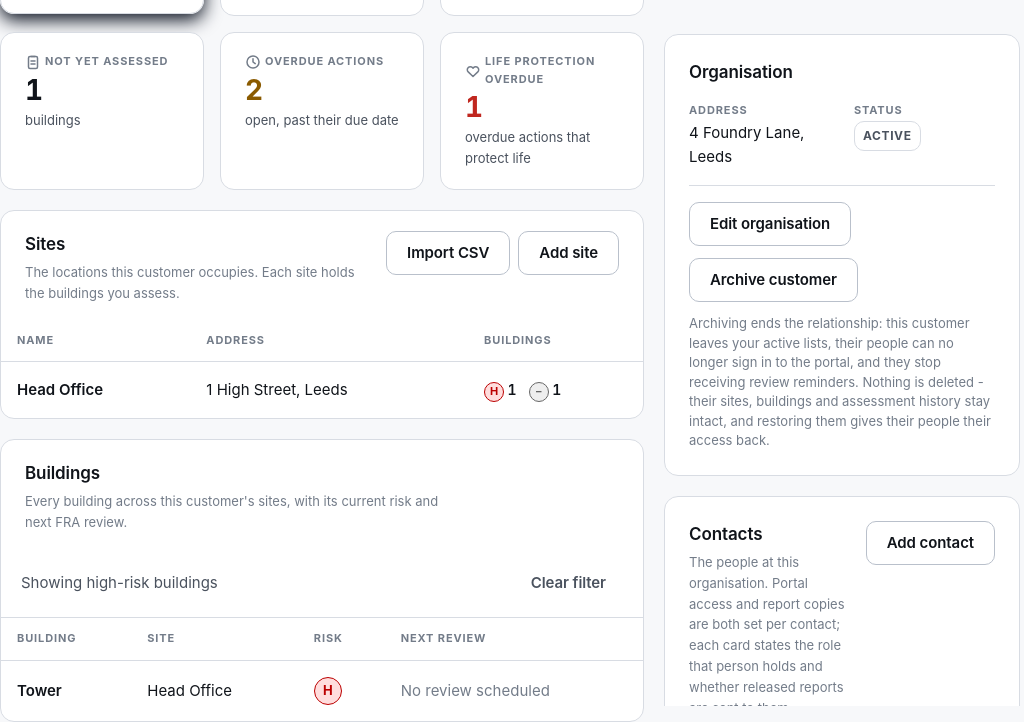
Test case: CustomerDetail band filter › filters the buildings list to the risk the tile carried, and clears
The width and height of the screenshot is (1024, 722).
(page scrolled)
Expected: the element with id "customer-buildings" is shown, [0, 439, 644, 721]
Expected: the text "Showing high-risk buildings" is shown, [21, 571, 218, 595]
Click the button "Clear filter": (568,583) [514, 561, 623, 605]
(page scrolled)
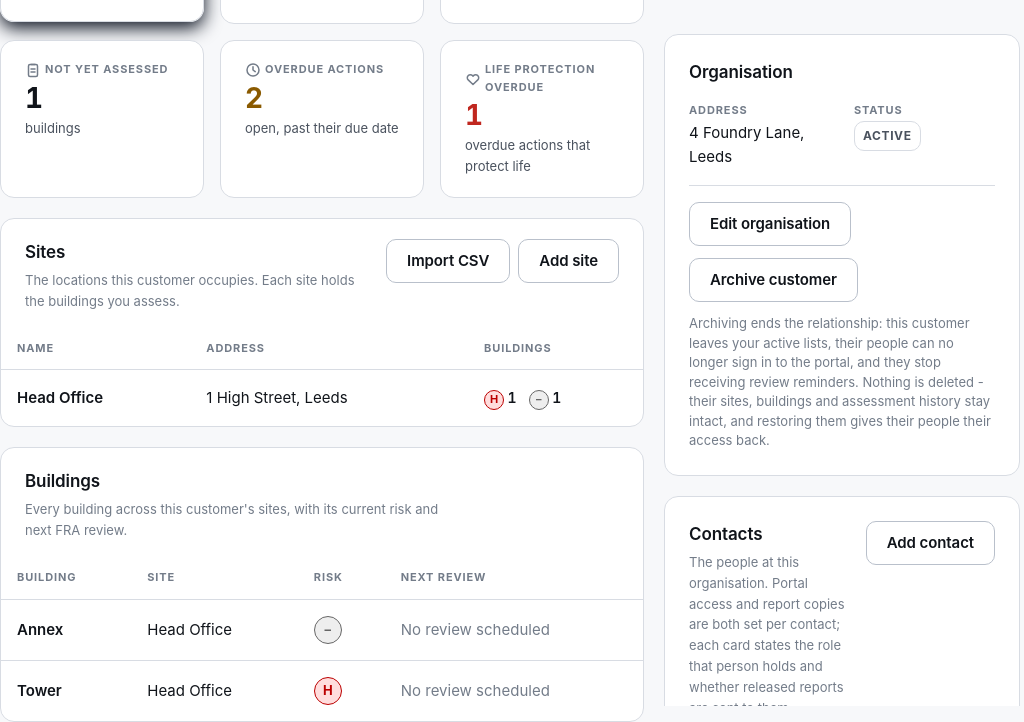
Result: the text "Showing high-risk buildings" is gone
Result: the text "Annex" is shown at [17, 618, 63, 642]
